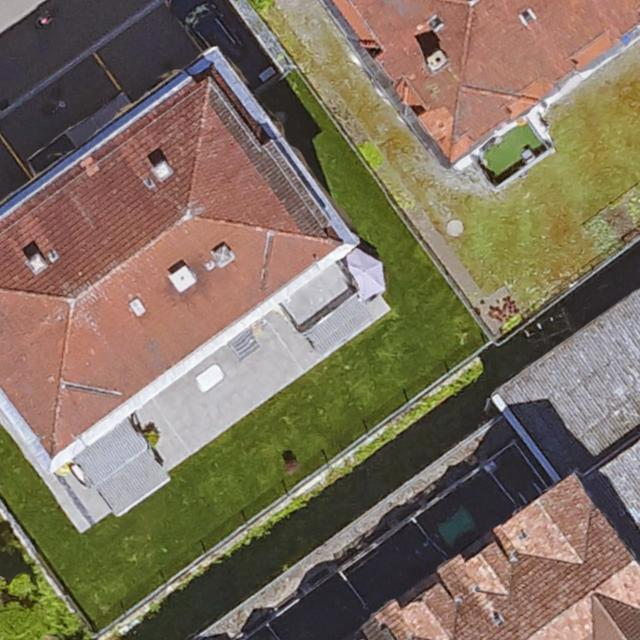tree: (0, 572, 33, 615)
